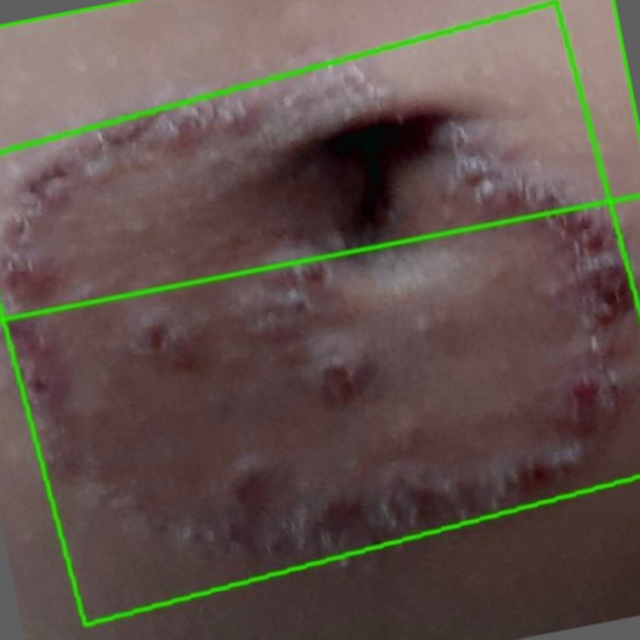Tinea Corporis: (0, 3, 639, 625), (0, 0, 639, 319)
